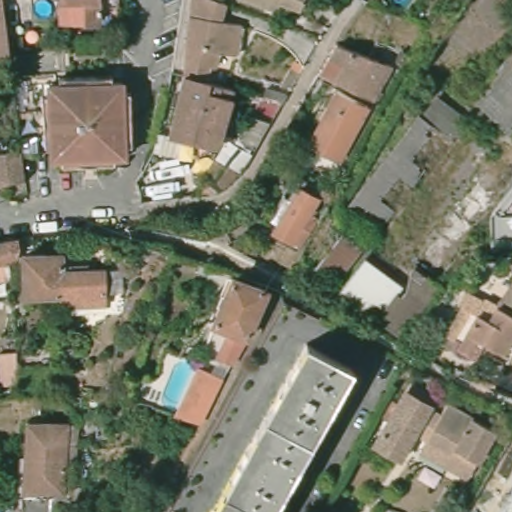pool: (160, 357, 197, 409), (31, 1, 57, 23)
